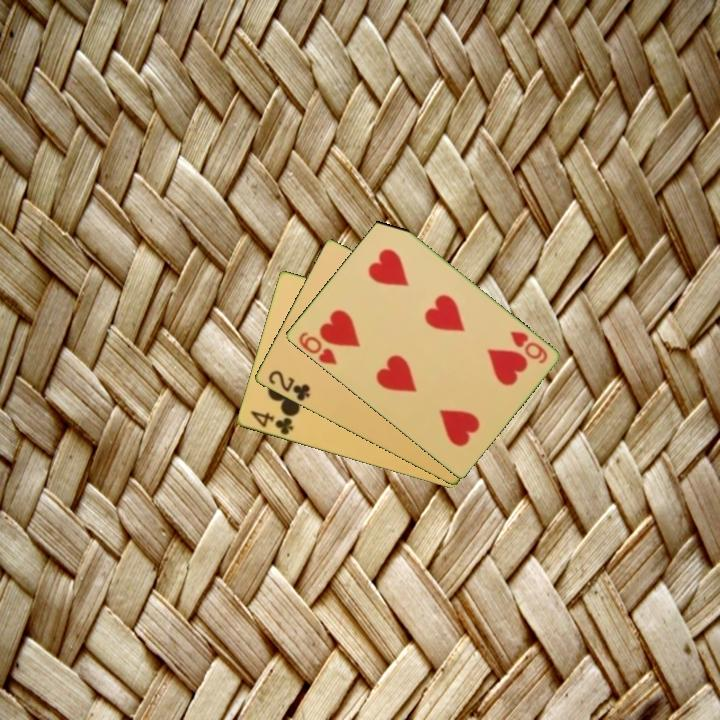2c: (264, 367, 313, 404)
4c: (247, 407, 296, 438)
6h: (295, 328, 340, 368), (506, 327, 550, 367)
